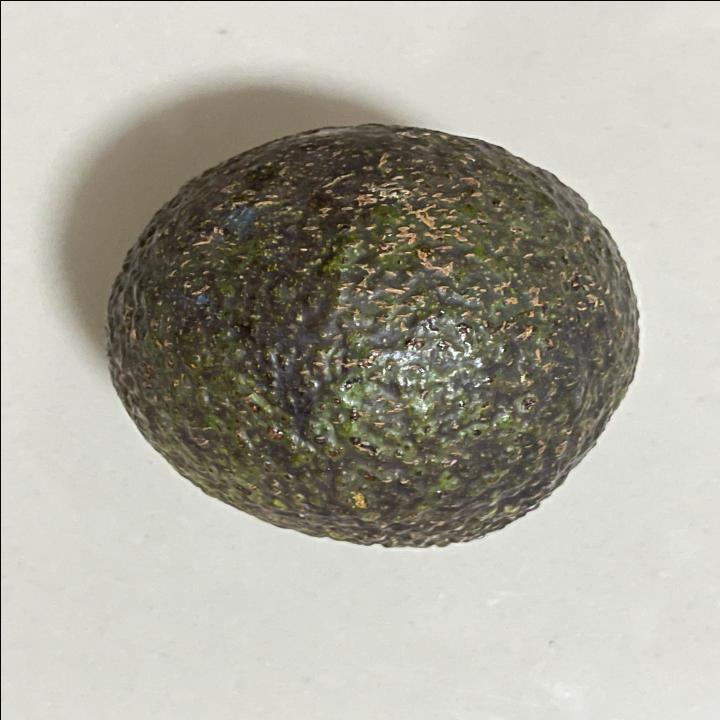Level1: (86, 107, 662, 576)
